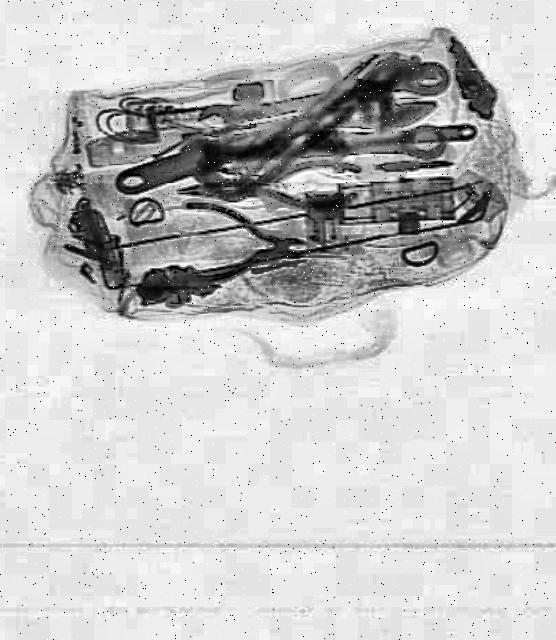Pliers: (182, 202, 312, 294), (182, 158, 366, 222)
Wrench: (196, 88, 326, 144)
